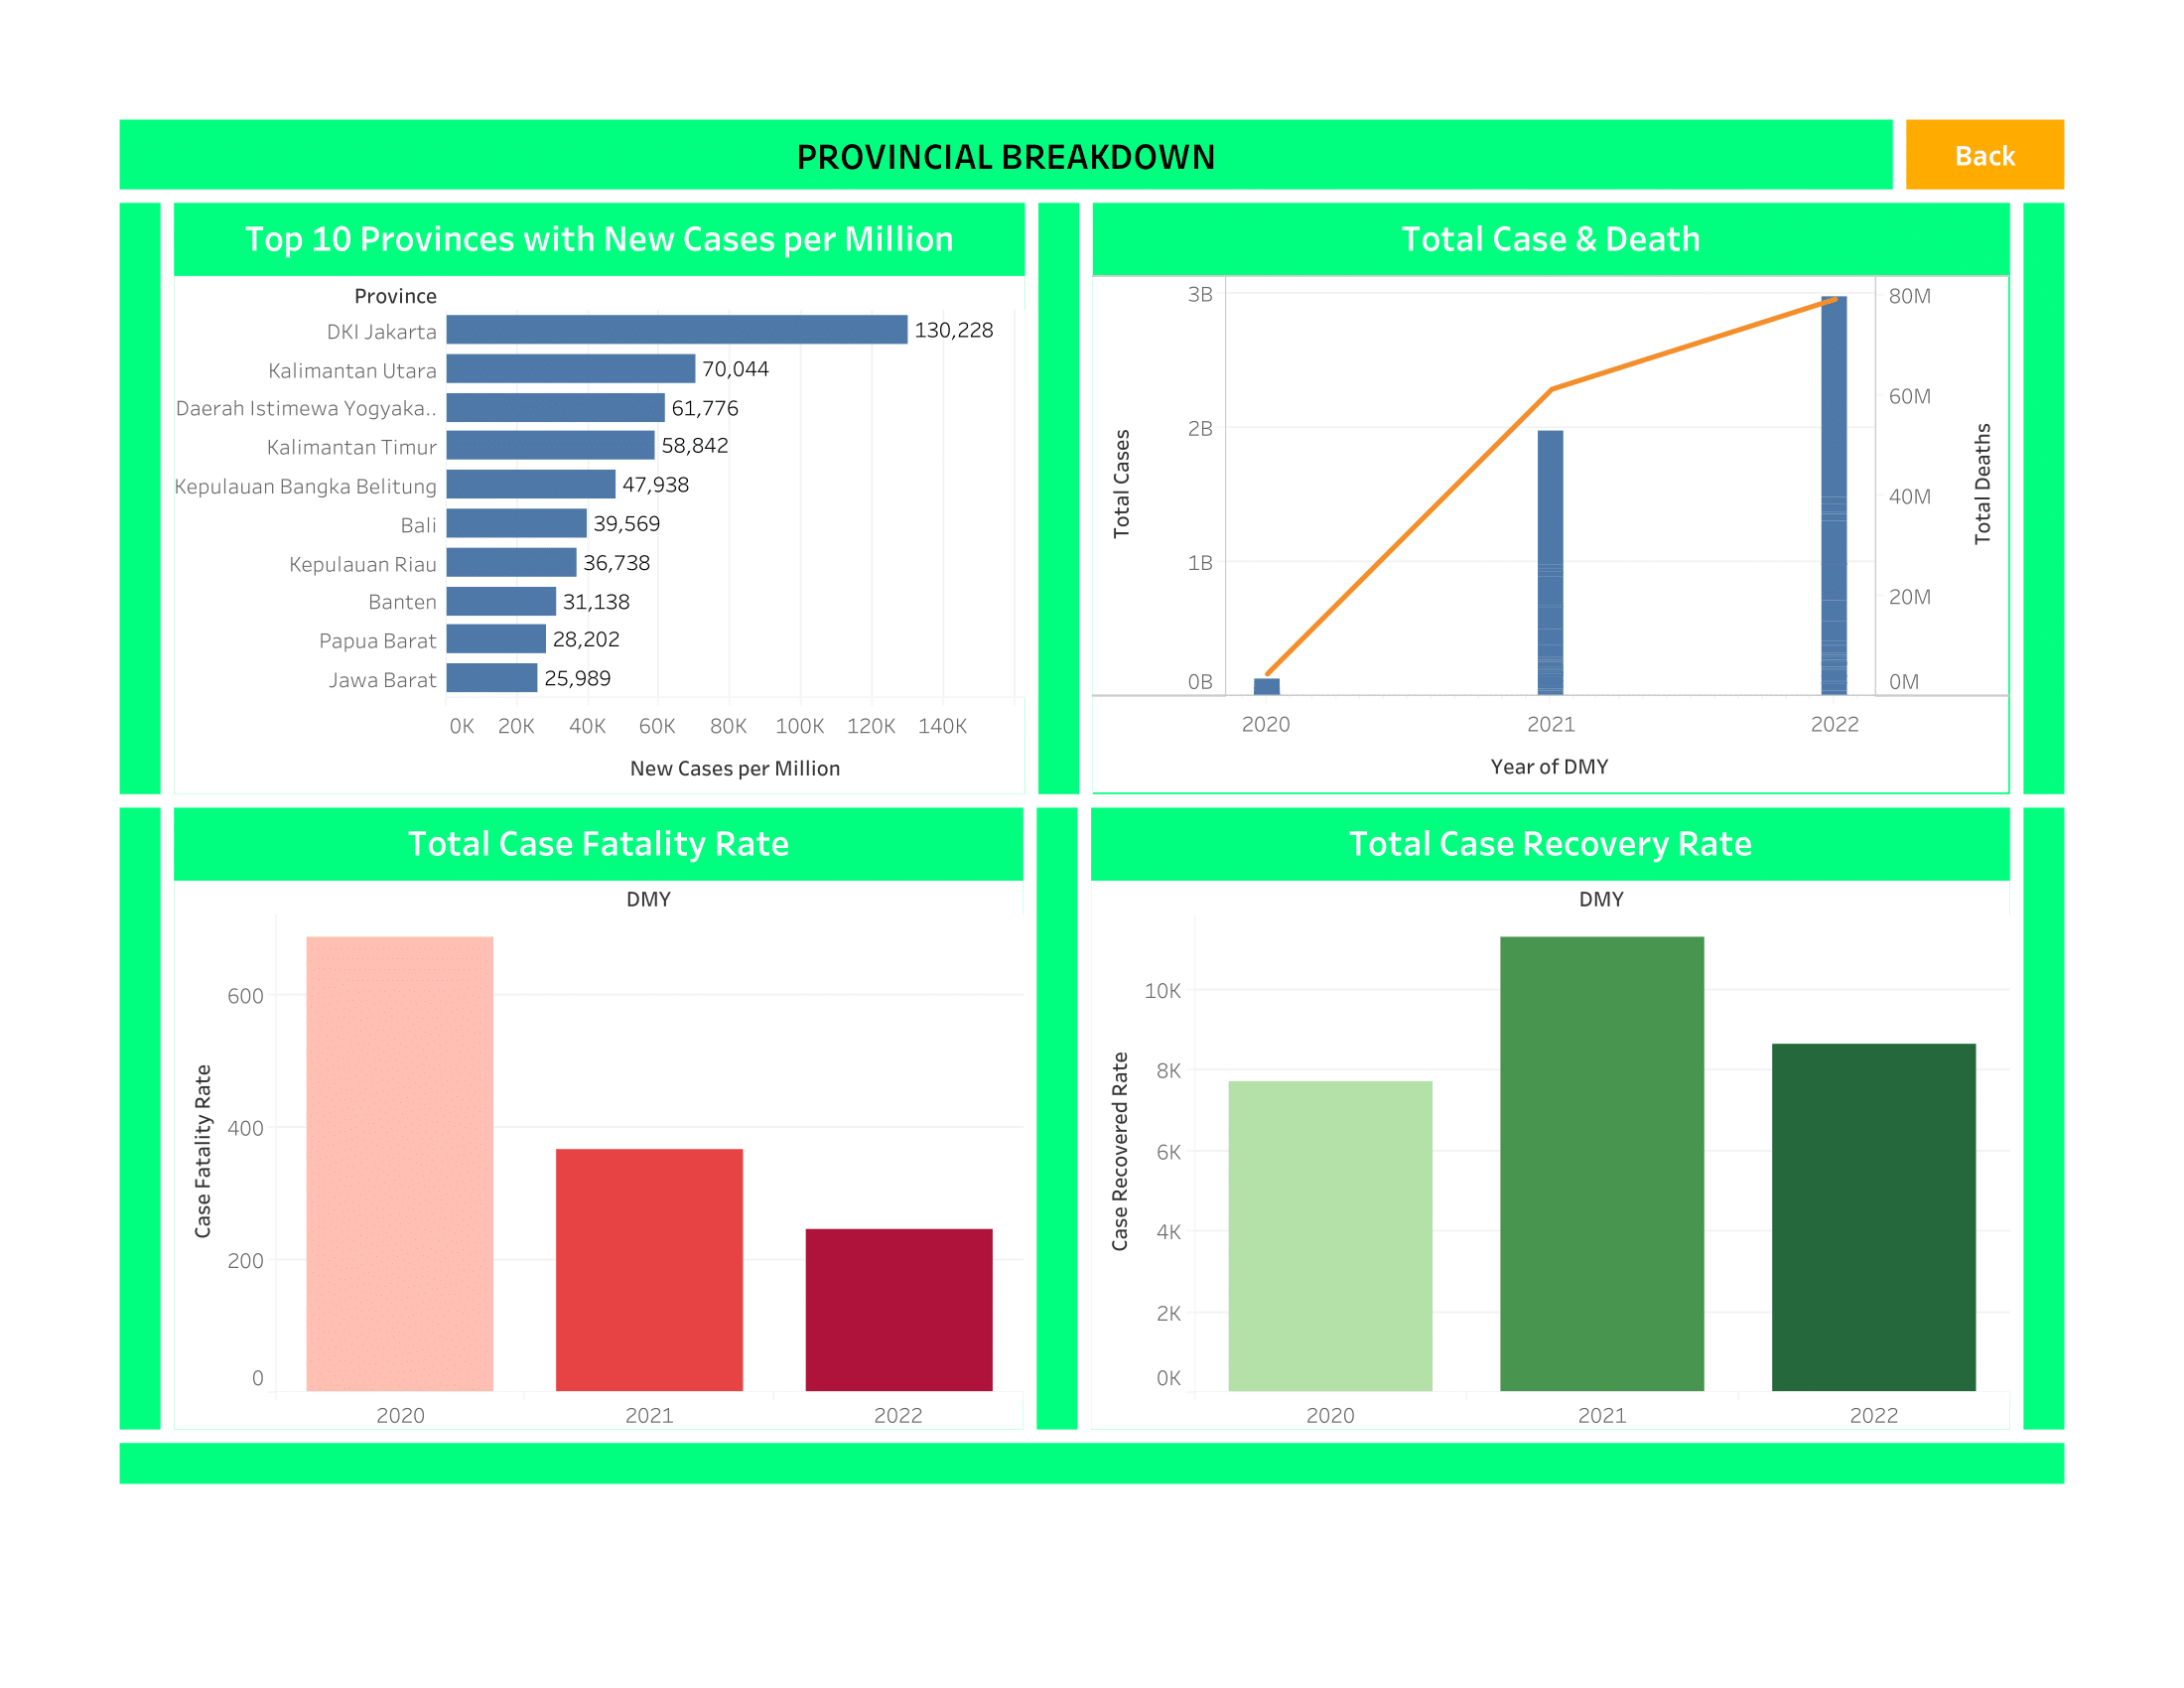

The dashboard page shown, as its layout file describes it:
{"tool":"tableau","page":{"name":"Dashboard 3","canvas":[1169,827],"ordinal":2},"visuals":[{"type":"text","box":[8,8,1052,48.8]},{"type":"dashboard-object","box":[1060,8,101,48.8]},{"type":"blank","box":[8,56.8,32,356.2]},{"type":"worksheet","title":"Top 10 Bar","mark":"Automatic","rows":["Province"],"cols":["New Cases per Million"],"box":[40,56.8,509,356.2]},{"type":"blank","box":[549,56.8,32,356.2]},{"type":"worksheet","title":"Total Case & Death","mark":"Automatic","rows":["Total Cases","Total Deaths"],"cols":["DMY"],"box":[581,56.8,548,356.2]},{"type":"blank","box":[1129,56.8,32,356.2]},{"type":"blank","box":[8,413,32,374]},{"type":"worksheet","title":"Total Case Fatality Rate","mark":"Bar","rows":["Case Fatality Rate"],"cols":["DMY"],"box":[40,413,508,374]},{"type":"blank","box":[548,413,32,374]},{"type":"worksheet","title":"Total Case Recovery Rate","mark":"Bar","rows":["Case Recovered Rate"],"cols":["DMY"],"box":[580,413,549,374]},{"type":"blank","box":[1129,413,32,374]},{"type":"blank","box":[8,787,1153,32]}]}

Visuals, with their boxes on the page's 1169x827 design canvas (x1, y1, x2, y2). These are canvas units, not pixel positions in the 2184x1688 screenshot, which may show the page scaled, cropped or inside an application window:
text: (left=8, top=8, right=1060, bottom=57)
dashboard-object: (left=1060, top=8, right=1161, bottom=57)
blank: (left=8, top=57, right=40, bottom=413)
"Top 10 Bar" worksheet: (left=40, top=57, right=549, bottom=413)
blank: (left=549, top=57, right=581, bottom=413)
"Total Case & Death" worksheet: (left=581, top=57, right=1129, bottom=413)
blank: (left=1129, top=57, right=1161, bottom=413)
blank: (left=8, top=413, right=40, bottom=787)
"Total Case Fatality Rate" worksheet (Bar marks): (left=40, top=413, right=548, bottom=787)
blank: (left=548, top=413, right=580, bottom=787)
"Total Case Recovery Rate" worksheet (Bar marks): (left=580, top=413, right=1129, bottom=787)
blank: (left=1129, top=413, right=1161, bottom=787)
blank: (left=8, top=787, right=1161, bottom=819)
